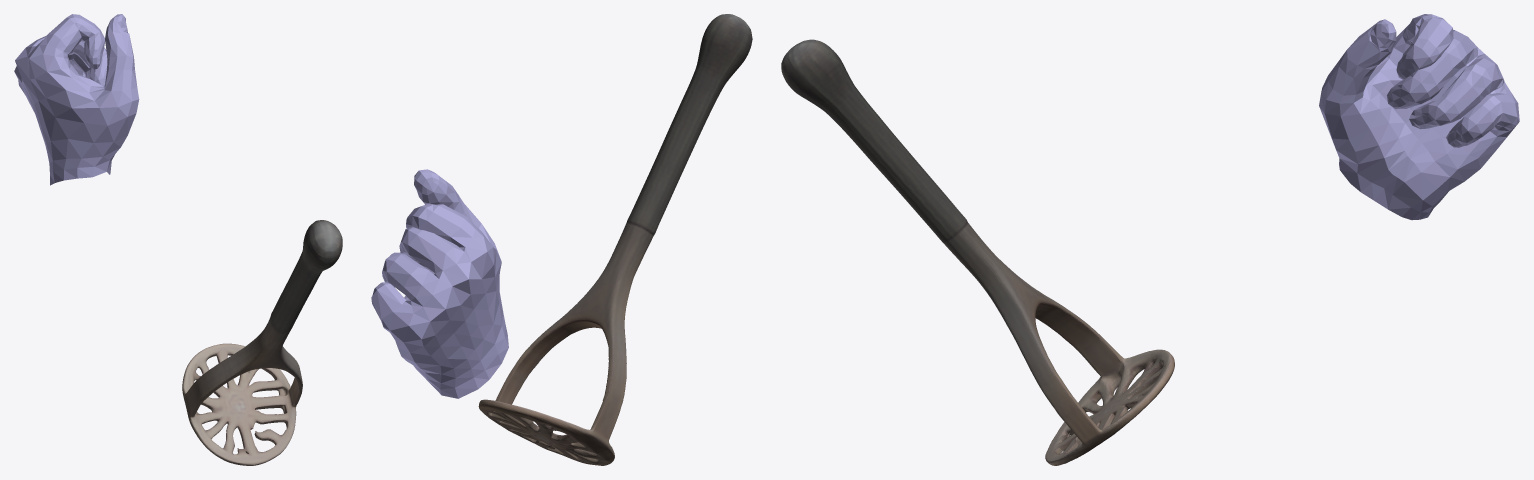
File: frame_0060_source_000060_hand_object.glb
The picture shows the model from 3 angles, left to right: view 1: azimuth 30°, elevation 25°; view 2: azimuth 150°, elevation 25°; view 3: azimuth 270°, elevation 25°; orthographic projection. The views are drawn at different scales.
Visible parts, largest first — view 1: world; view 2: world; view 3: world.
Boxes of the visible parts, x1=… form: world: x1=14, y1=14, x2=342, y2=465; world: x1=371, y1=14, x2=752, y2=465; world: x1=781, y1=14, x2=1519, y2=465.
Size of the model in its own units: 0.0942 by 0.2427 by 0.3743.
